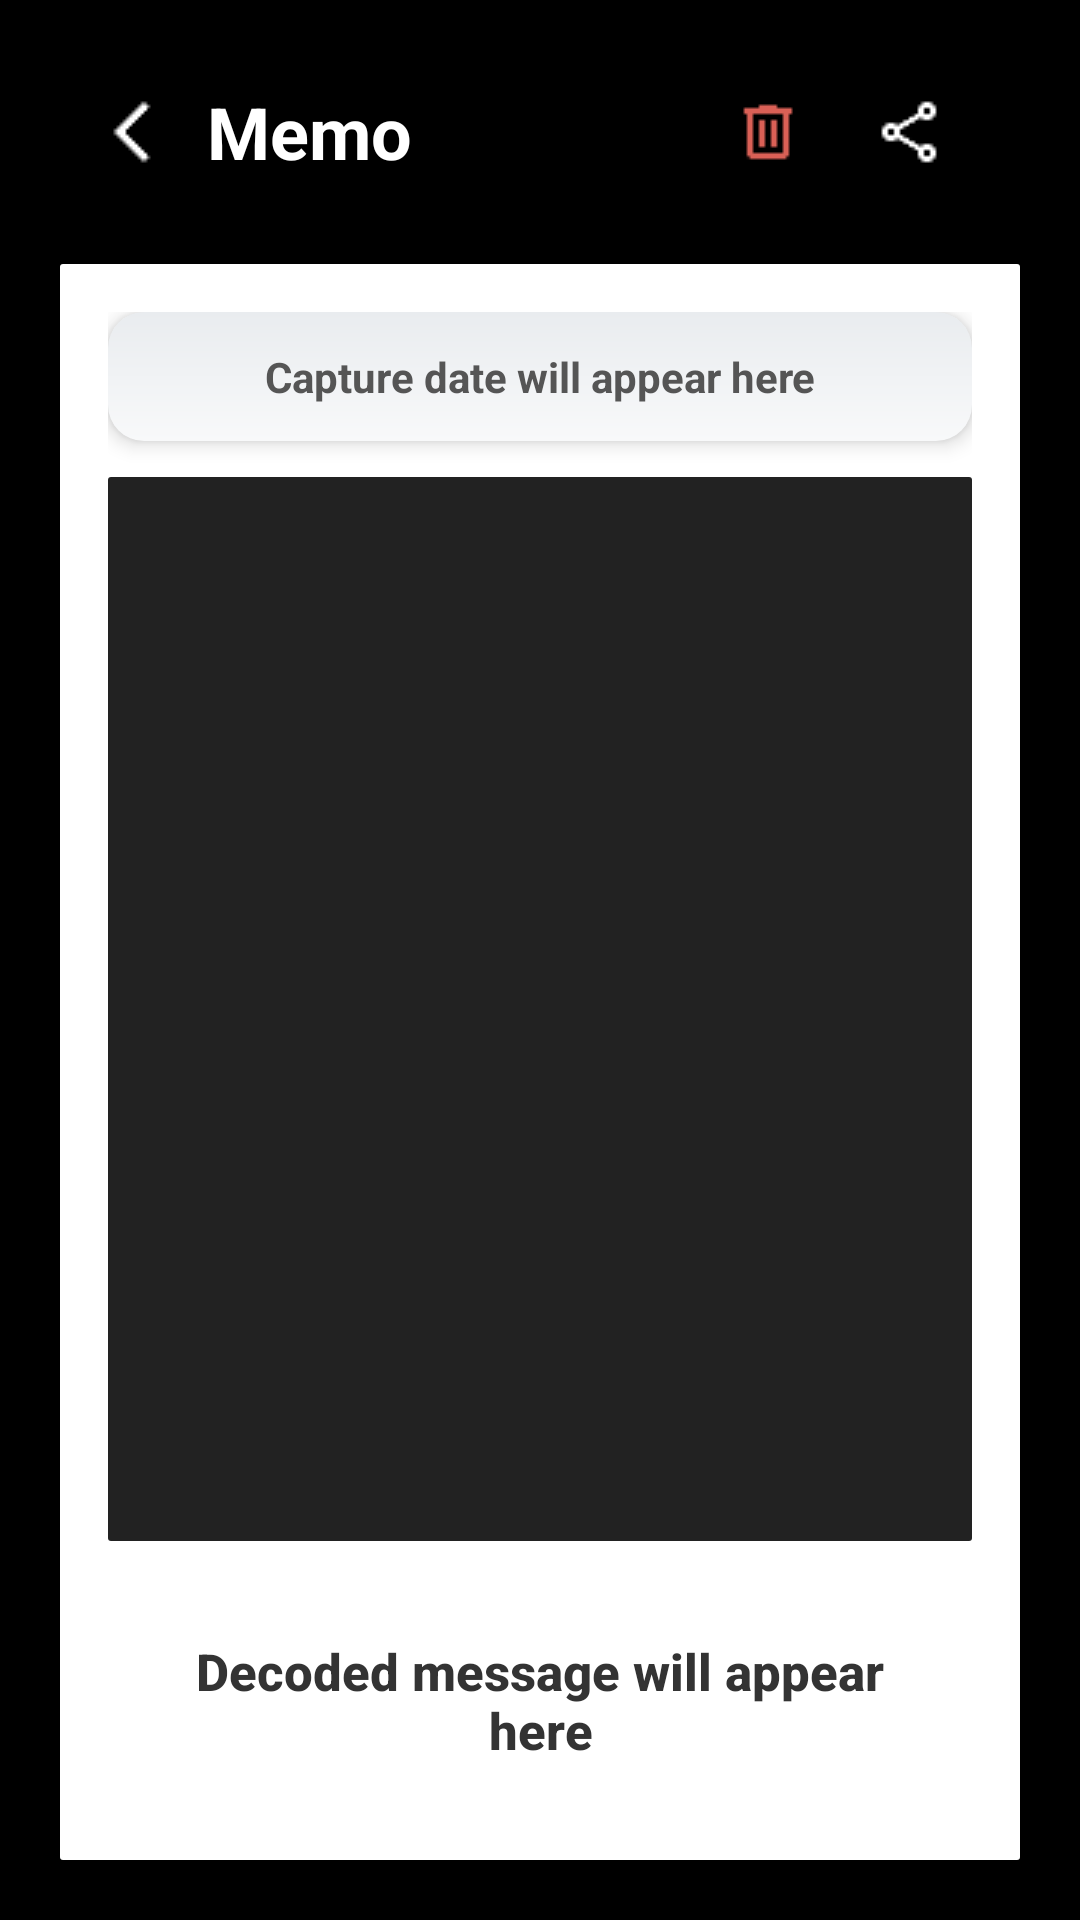

Locate icon controls on the screen. Image size 1080 x 1920, boxes as detection(x1, y1, x2, y2).
Back: detection(113, 101, 151, 163)
Delete Image: detection(743, 104, 793, 160)
Share Image: detection(881, 101, 937, 163)
